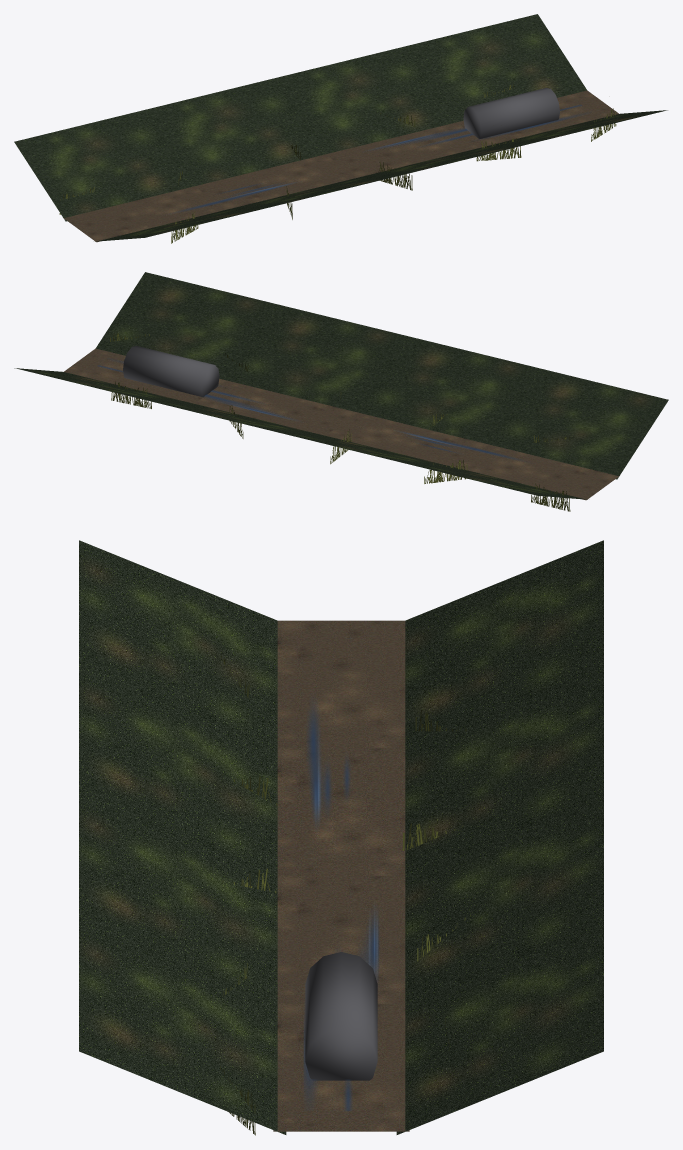
Rendered from WK_TER_Ditch.glb.
3 views of the same model, one above another, from view 1: azimuth 30°, elevation 25°; view 2: azimuth 150°, elevation 25°; view 3: azimuth 270°, elevation 25° (orthographic). The views are drawn at different scales.
Parts seen in each view (by area): view 1: WK_TER_Ditch_P02, WK_TER_Ditch_P03, WK_TER_Ditch_P01, WK_TER_Ditch_P15, WK_TER_Ditch_P04, WK_TER_Ditch_P12, WK_TER_Ditch_P10; view 2: WK_TER_Ditch_P01, WK_TER_Ditch_P03, WK_TER_Ditch_P02, WK_TER_Ditch_P15, WK_TER_Ditch_P04, WK_TER_Ditch_P05, WK_TER_Ditch_P07, WK_TER_Ditch_P13; view 3: WK_TER_Ditch_P01, WK_TER_Ditch_P02, WK_TER_Ditch_P03, WK_TER_Ditch_P15, WK_TER_Ditch_P04.
Part boxes in pixels (x1,y1,x2,y2): WK_TER_Ditch_P02: (14, 14, 587, 221); WK_TER_Ditch_P03: (64, 90, 618, 242); WK_TER_Ditch_P01: (96, 110, 667, 241); WK_TER_Ditch_P15: (463, 88, 559, 139); WK_TER_Ditch_P04: (174, 104, 586, 212); WK_TER_Ditch_P12: (476, 138, 521, 161); WK_TER_Ditch_P10: (376, 161, 412, 190); WK_TER_Ditch_P01: (95, 272, 668, 479); WK_TER_Ditch_P03: (64, 348, 618, 500); WK_TER_Ditch_P02: (14, 368, 586, 499); WK_TER_Ditch_P15: (123, 346, 219, 397); WK_TER_Ditch_P04: (98, 359, 522, 460); WK_TER_Ditch_P05: (531, 483, 570, 511); WK_TER_Ditch_P07: (424, 459, 467, 483); WK_TER_Ditch_P13: (111, 381, 151, 408); WK_TER_Ditch_P01: (79, 540, 286, 1134); WK_TER_Ditch_P02: (396, 540, 603, 1134); WK_TER_Ditch_P03: (273, 620, 409, 1131); WK_TER_Ditch_P15: (305, 952, 377, 1080); WK_TER_Ditch_P04: (304, 703, 378, 1110).
Size of the model in its own units: 8 by 0.6858 by 3.47.
5 materials, 4 textured.
